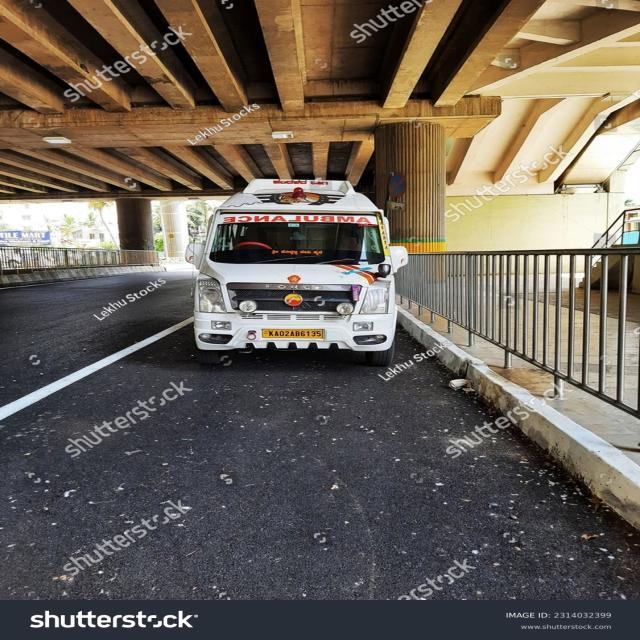ambulance: (195, 176, 402, 366)
